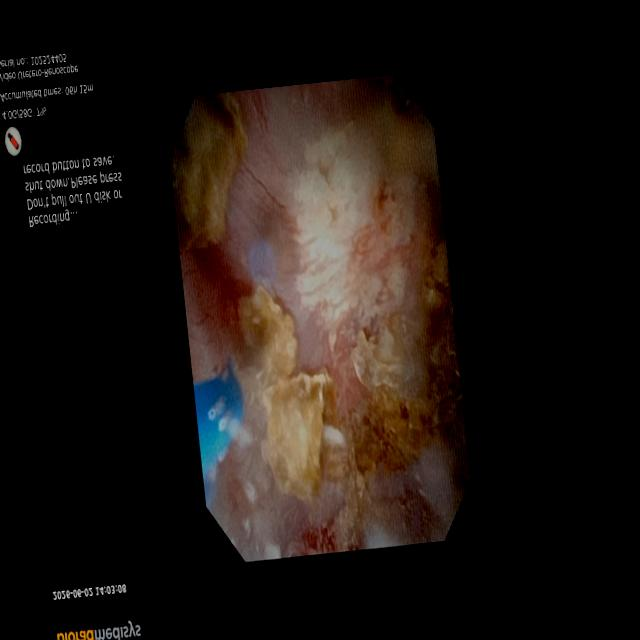laser-fibre: (234, 347, 269, 407)
stone-new: (170, 93, 247, 250), (262, 373, 333, 499), (239, 286, 297, 391)
